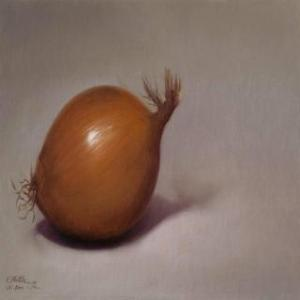onion: (29, 80, 183, 246)
